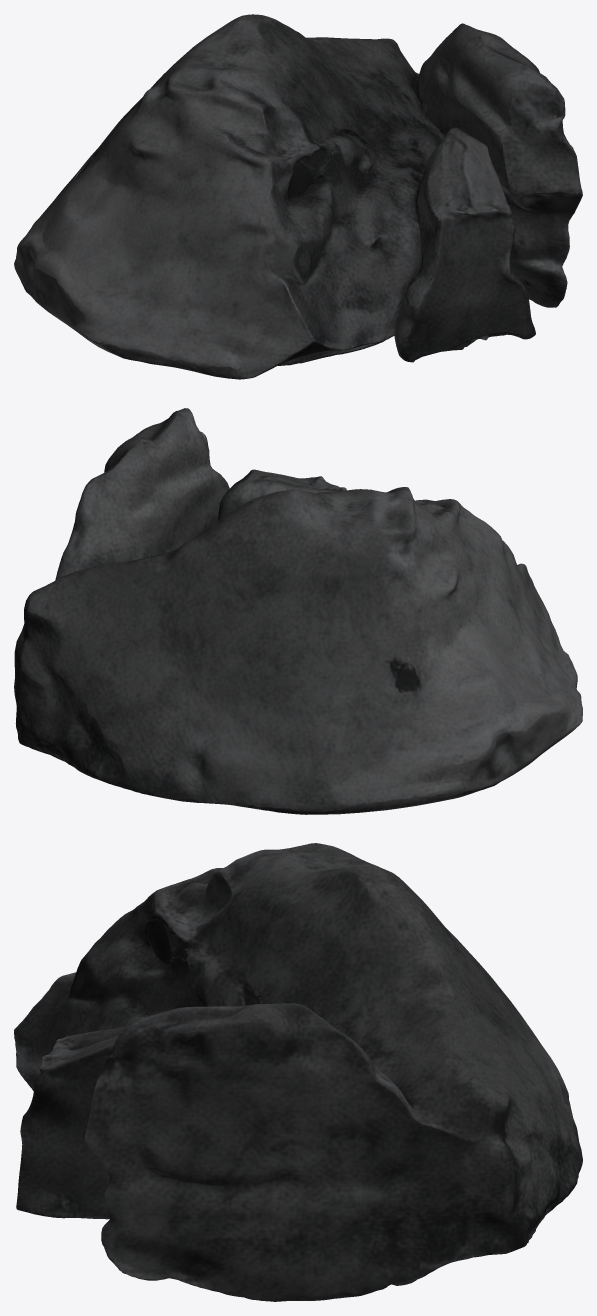
3 renders of one model, top to bottom at view 1: azimuth 30°, elevation 25°; view 2: azimuth 150°, elevation 25°; view 3: azimuth 270°, elevation 25°, orthographic. The views are drawn at different scales.
Parts seen in each view (by area): view 1: world; view 2: world; view 3: world.
Boxes of the visible parts, x1,y1,x2,y2 form: world: [14, 14, 582, 379]; world: [14, 408, 582, 814]; world: [14, 843, 582, 1301].
Bounding box in the file's own units: 0.8 × 0.5016 × 0.7969.
Materials: 1 (1 with a texture image).
